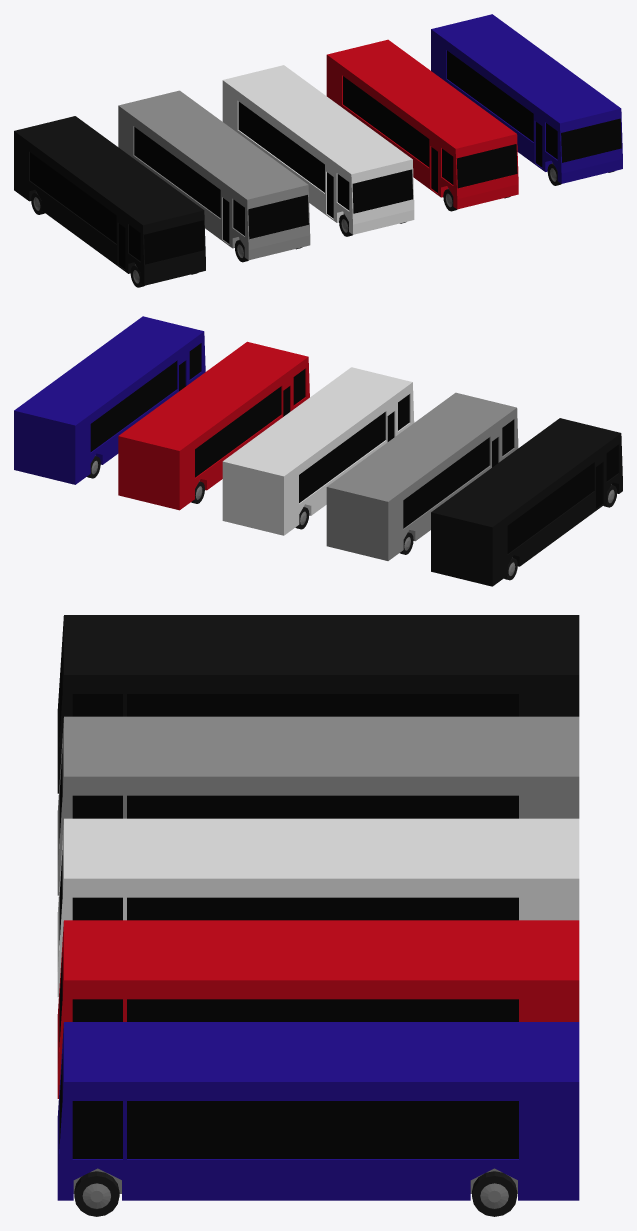
File: CargoBusModel.fbx
The picture shows the model from 3 angles, top to bottom: view 1: azimuth 30°, elevation 25°; view 2: azimuth 150°, elevation 25°; view 3: azimuth 270°, elevation 25°; orthographic projection. The views are drawn at different scales.
Visible parts, largest first — view 1: BusWhiteBlack, BusWhiteRed, BusWhite, BusWhiteGray, BusWhiteBlue; view 2: BusWhiteBlack, BusWhiteGray, BusWhite, BusWhiteRed, BusWhiteBlue; view 3: BusWhiteBlue, BusWhiteGray, BusWhite, BusWhiteRed, BusWhiteBlack.
Boxes of the visible parts, x1,y1,x2,y2 form: BusWhiteBlack: [14, 116, 205, 287]; BusWhiteRed: [326, 39, 518, 211]; BusWhite: [222, 65, 414, 236]; BusWhiteGray: [118, 90, 310, 262]; BusWhiteBlue: [431, 14, 622, 185]; BusWhiteBlack: [431, 418, 622, 586]; BusWhiteGray: [326, 392, 518, 560]; BusWhite: [222, 367, 414, 535]; BusWhiteRed: [118, 341, 309, 510]; BusWhiteBlue: [14, 316, 205, 484]; BusWhiteBlue: [57, 1022, 579, 1216]; BusWhiteGray: [57, 716, 579, 895]; BusWhite: [57, 818, 579, 997]; BusWhiteRed: [57, 920, 579, 1098]; BusWhiteBlack: [57, 615, 579, 793].
Size of the model in its own units: 2295 by 312 by 1084.
